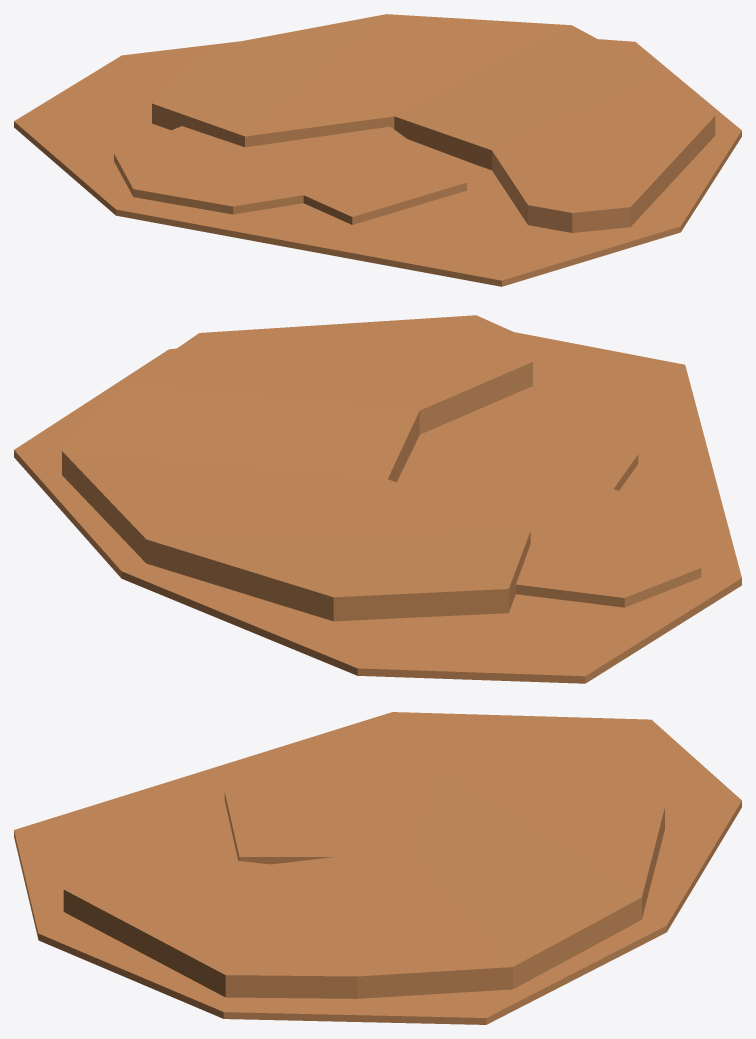
The model's file is SandRocks9_LOD1.fbx.
3 renders of one model, top to bottom at view 1: azimuth 30°, elevation 25°; view 2: azimuth 150°, elevation 25°; view 3: azimuth 270°, elevation 25°, orthographic. The views are drawn at different scales.
Parts seen in each view (by area): view 1: Plane.190; view 2: Plane.190; view 3: Plane.190.
Part boxes in pixels (box(x1,y1,x2,y2)): Plane.190: box(14, 14, 741, 286); Plane.190: box(14, 315, 741, 683); Plane.190: box(14, 712, 741, 1024).
Size of the model in its own units: 257 by 11.65 by 258.
